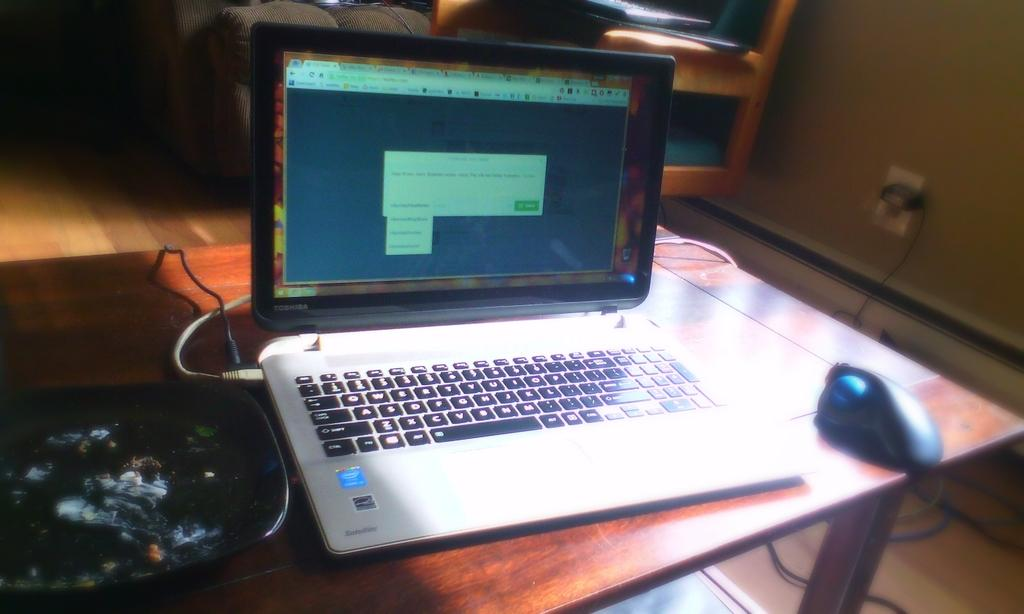Laptop: (248, 21, 816, 559)
